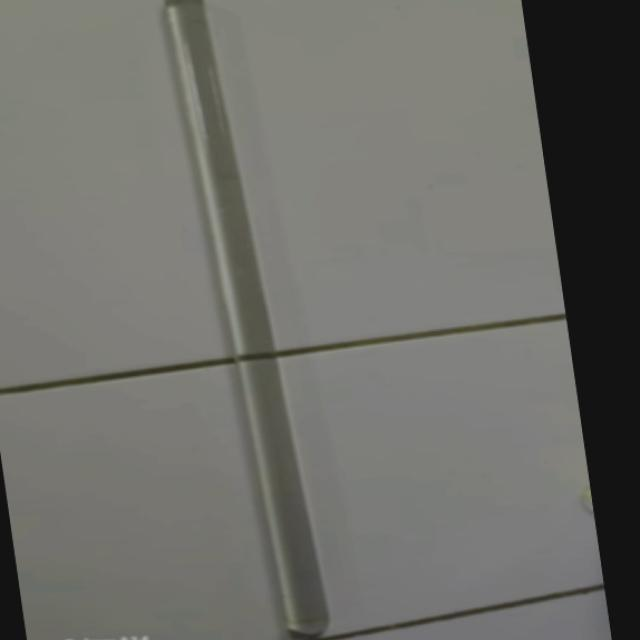Stirrer: (153, 0, 334, 640)
